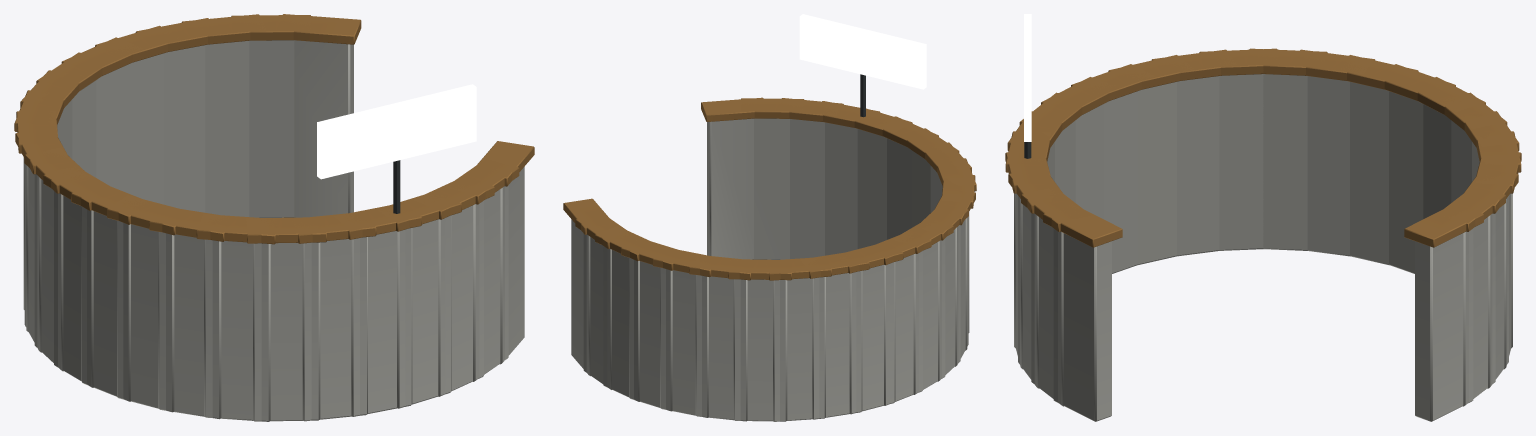
File: ap-info-desk.glb
The picture shows the model from 3 angles, left to right: view 1: azimuth 30°, elevation 25°; view 2: azimuth 150°, elevation 25°; view 3: azimuth 270°, elevation 25°; orthographic projection. The views are drawn at different scales.
Parts seen in each view (by area): view 1: body__paint, top__wood, sign__led; view 2: body__paint, top__wood, sign__led; view 3: body__paint, top__wood, sign__led.
Part boxes in pixels (bbox=[...]): body__paint: bbox=[23, 40, 524, 421]; top__wood: bbox=[14, 14, 534, 244]; sign__led: bbox=[317, 84, 476, 179]; body__paint: bbox=[571, 118, 969, 421]; top__wood: bbox=[563, 97, 976, 280]; sign__led: bbox=[799, 14, 926, 89]; body__paint: bbox=[1014, 74, 1512, 421]; top__wood: bbox=[1005, 48, 1521, 247]; sign__led: bbox=[1024, 14, 1031, 141].
Size of the model in its own units: 2.3 by 1.65 by 2.63.
